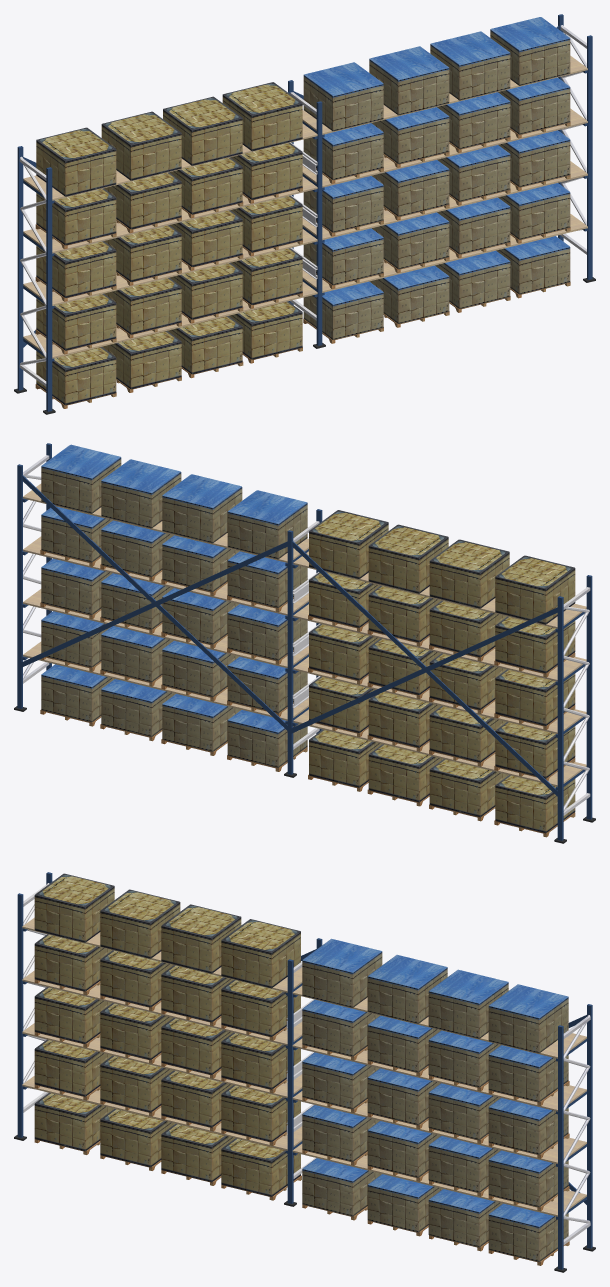
Rendered from BigShelves01Group4.FBX.
3 views of the same model, one above another, from view 1: azimuth 30°, elevation 25°; view 2: azimuth 150°, elevation 25°; view 3: azimuth 330°, elevation 25° (orthographic).
Parts seen in each view (by area): view 1: Box_Pallet02, Box_Pallet01, BigShelves01, BigShelvesWoodBox; view 2: Box_Pallet02, Box_Pallet01, BigShelves01, BigShelvesWoodBox; view 3: Box_Pallet01, Box_Pallet02, BigShelves01, BigShelvesWoodBox.
Boxes of the visible parts, x1=… form: Box_Pallet02: x1=36, y1=82, x2=302, y2=405; Box_Pallet01: x1=303, y1=17, x2=570, y2=339; BigShelves01: x1=14, y1=14, x2=595, y2=414; BigShelvesWoodBox: x1=35, y1=122, x2=570, y2=408; Box_Pallet02: x1=309, y1=510, x2=575, y2=833; Box_Pallet01: x1=41, y1=444, x2=307, y2=767; BigShelves01: x1=14, y1=443, x2=595, y2=843; BigShelvesWoodBox: x1=40, y1=549, x2=575, y2=837; Box_Pallet01: x1=302, y1=938, x2=568, y2=1261; Box_Pallet02: x1=34, y1=873, x2=300, y2=1196; BigShelves01: x1=14, y1=872, x2=595, y2=1272; BigShelvesWoodBox: x1=34, y1=979, x2=569, y2=1265.
Size of the model in its own units: 699 by 302 by 71.51.
